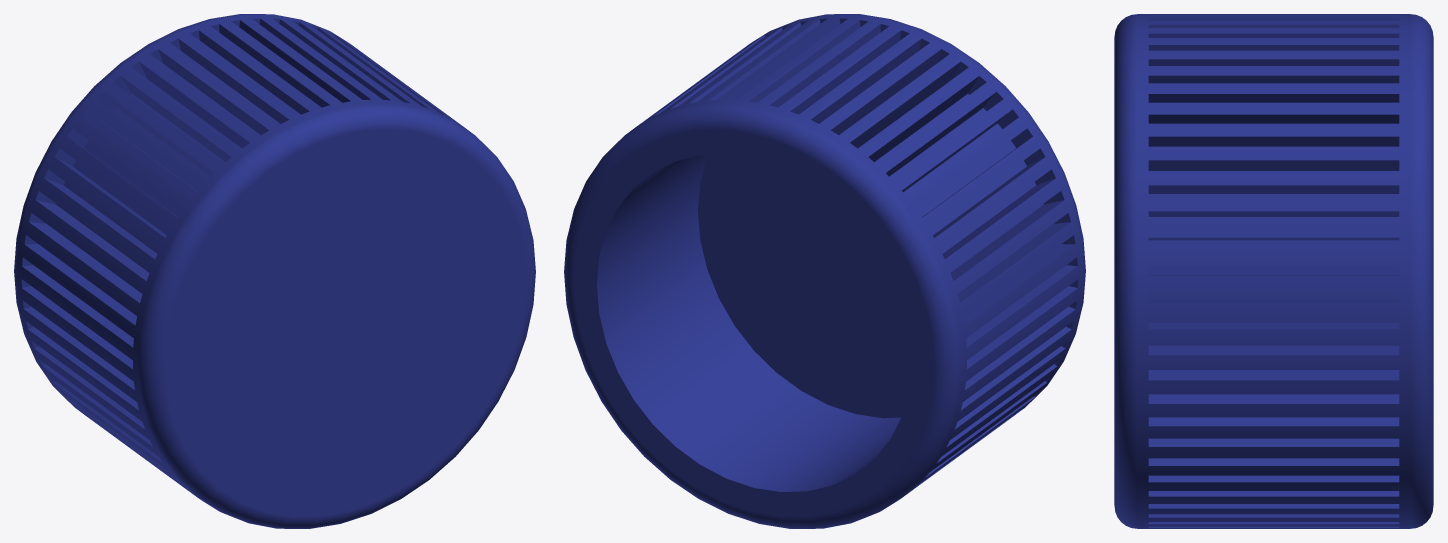
Rendered from blue-cap.obj.
3 views of the same model, side by side, from view 1: azimuth 30°, elevation 25°; view 2: azimuth 150°, elevation 25°; view 3: azimuth 270°, elevation 25° (orthographic). The views are drawn at different scales.
Parts seen in each view (by area): view 1: Body1; view 2: Body1; view 3: Body1.
Part boxes in pixels (<box>): Body1: <box>14,14,535,528</box>; Body1: <box>564,14,1085,528</box>; Body1: <box>1114,14,1433,528</box>.
Bounding box in the file's own units: 2.26 × 2.26 × 1.4.
